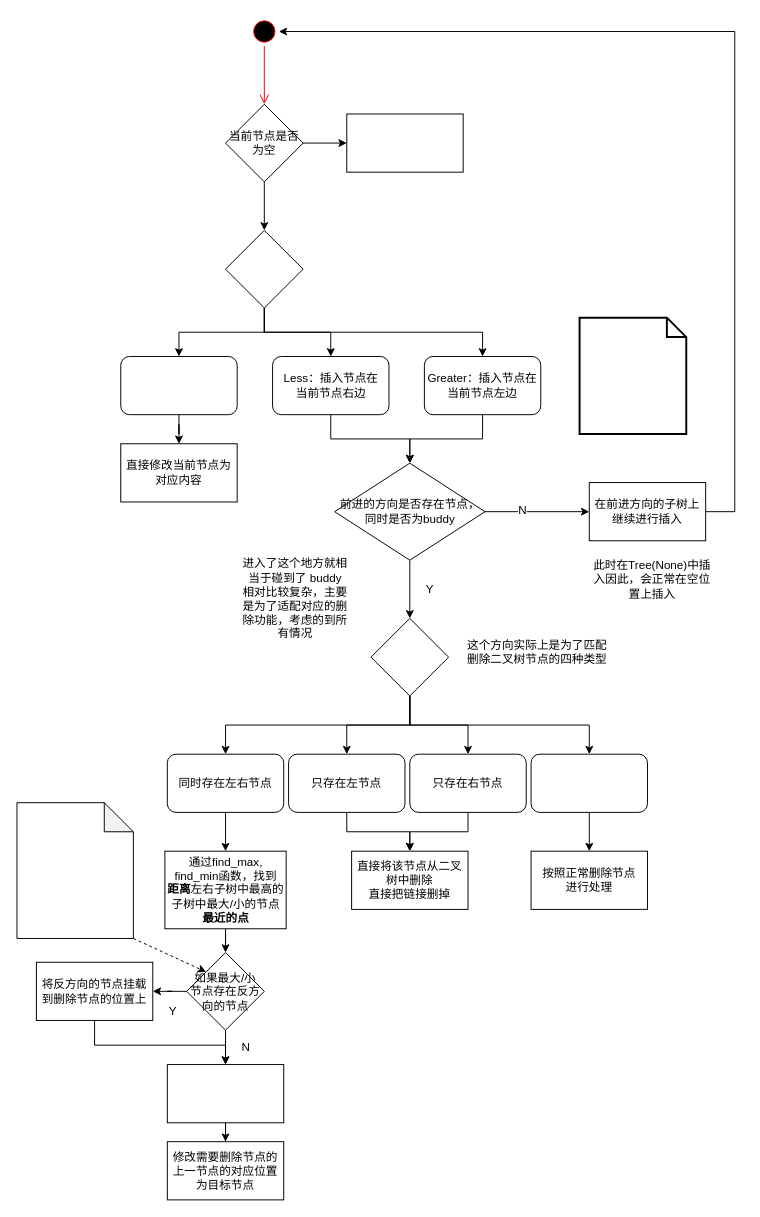
This 760x1217 diagram has some shape labels left out. Here are the shapes that lost their labels. From the top down, the centre of each, then its label:
At point 404,142: "通过 idx => Node 修改当前节点内容为目标内容".
At point 264,268: "当前节点相较于 buddy 节点而言".
At point 178,385: "Equal: 插入节点是当前节点".
At point 632,375: "注意：在Less，Greater的末尾都带上了节点更新和自动旋转".
At point 409,656: "前进方向的节点是否存在左右子树".
At point 588,782: "前进方向的节点为叶子节点".
At point 74,870: "这个地方主要是因为考虑到了的情况 [a] (leaf) \ [b] / [c]".
At point 225,1093: "将需要删除的节点的两个子树链接到leaf中".
